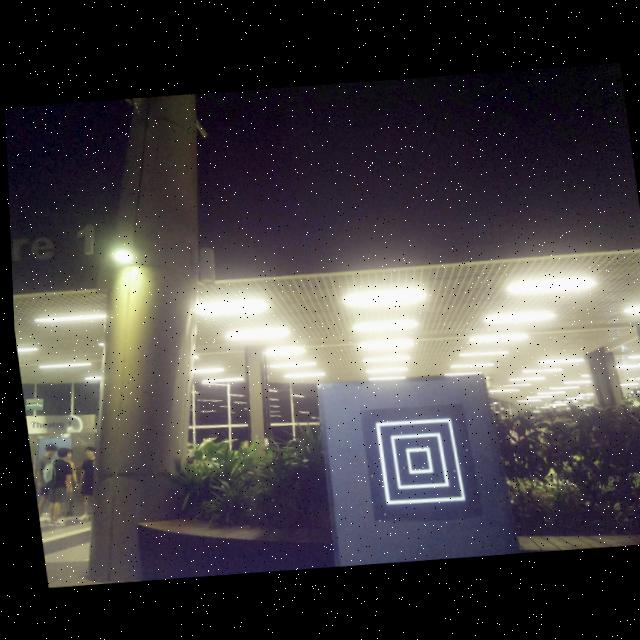BULLSEYE: (358, 404, 474, 520)
